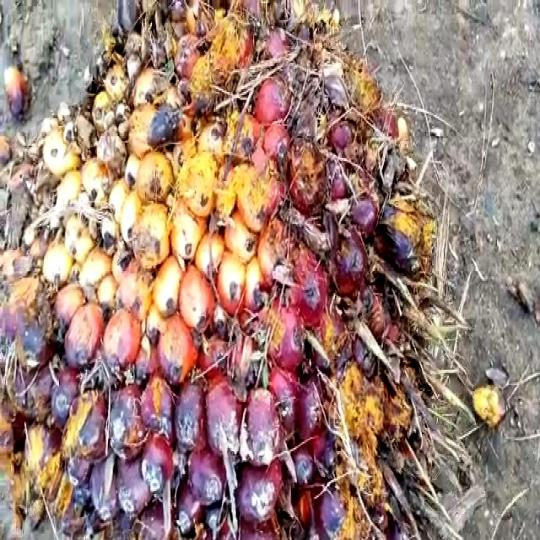masak: (0, 0, 439, 540)
